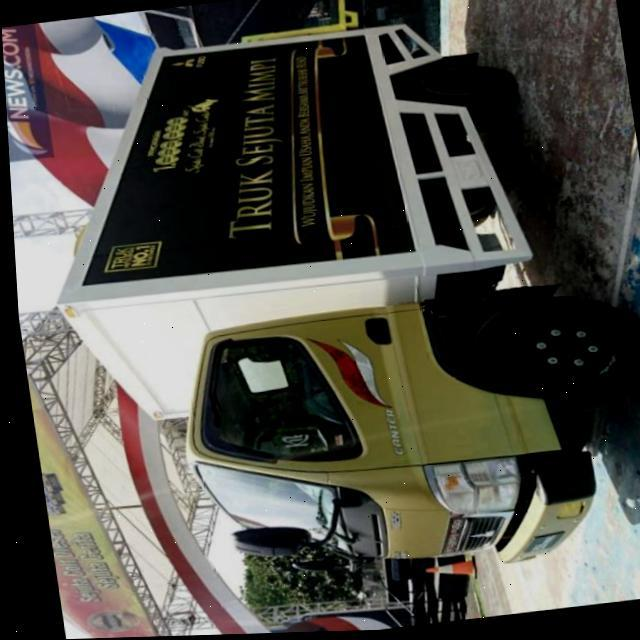truck: (14, 3, 640, 614)
